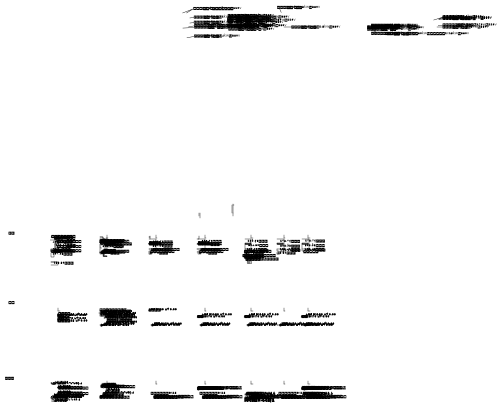corridor: (71, 165, 73, 170), (71, 159, 73, 163)
room: (0, 156, 6, 168), (64, 156, 70, 164), (126, 164, 135, 169), (126, 159, 135, 164), (188, 164, 197, 169), (188, 159, 197, 164), (249, 164, 257, 169), (249, 159, 257, 164), (290, 164, 298, 169), (290, 159, 298, 164), (322, 164, 330, 169), (322, 159, 330, 164), (252, 144, 257, 152), (64, 166, 71, 171), (2, 142, 10, 146), (64, 164, 70, 169), (253, 144, 257, 151), (7, 158, 11, 164), (126, 155, 132, 159), (188, 155, 194, 159), (253, 145, 257, 151), (7, 164, 11, 169), (249, 155, 254, 159), (290, 155, 295, 159), (322, 155, 327, 159), (68, 151, 73, 155), (126, 163, 135, 165), (188, 163, 197, 165), (322, 163, 330, 165), (290, 163, 298, 165), (249, 163, 257, 165), (69, 151, 73, 155), (2, 151, 5, 155), (132, 155, 135, 159), (126, 153, 130, 156), (188, 153, 192, 156), (254, 155, 257, 159), (295, 155, 298, 159), (327, 155, 330, 159), (71, 165, 73, 170), (2, 156, 5, 159), (64, 153, 67, 156), (290, 153, 293, 156), (71, 159, 73, 163), (7, 156, 11, 158), (195, 155, 197, 159), (9, 167, 11, 170), (249, 153, 252, 155), (249, 151, 252, 153), (70, 157, 73, 159), (67, 155, 69, 156), (7, 170, 8, 171), (249, 155, 250, 156), (72, 164, 73, 165)
wall: (249, 150, 252, 151)
